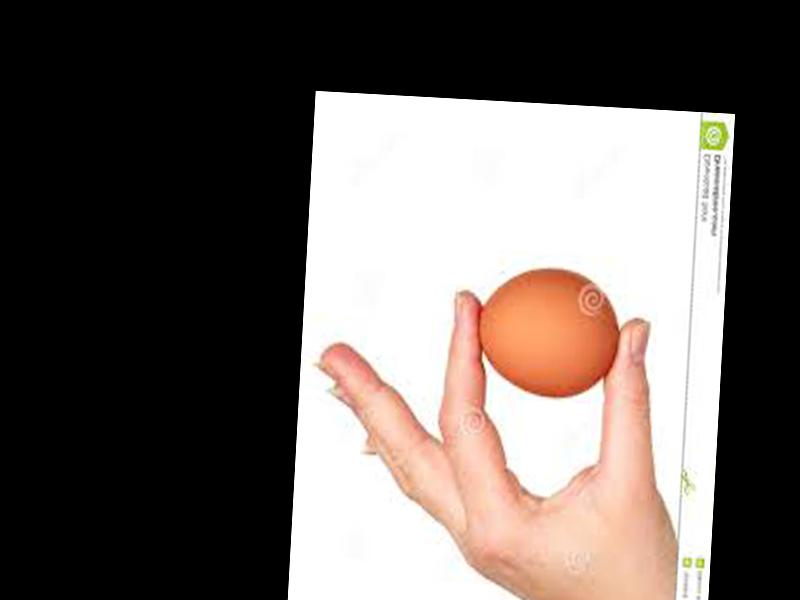Eggs: (474, 263, 624, 403)
